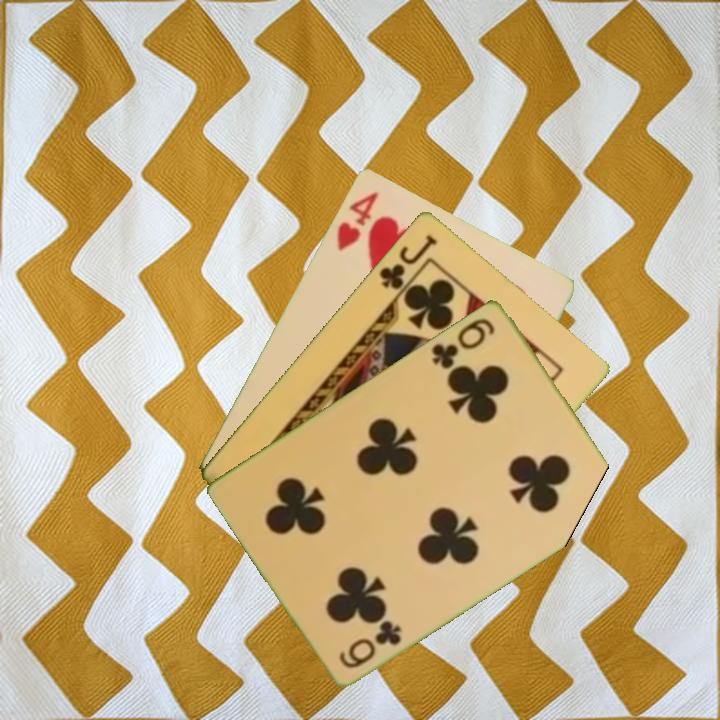4h: (333, 187, 381, 253)
6c: (428, 313, 498, 372), (335, 616, 405, 671)
Jc: (375, 230, 441, 292)
